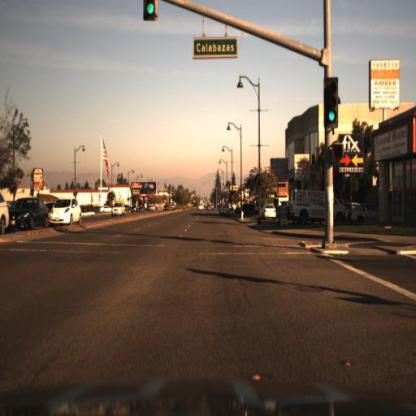car: (291, 184, 347, 223), (8, 197, 49, 230), (49, 196, 81, 225), (353, 205, 384, 225), (261, 205, 279, 219), (112, 203, 126, 219), (221, 202, 233, 218)
trafficLight-Green: (325, 79, 339, 129), (146, 2, 158, 20)
